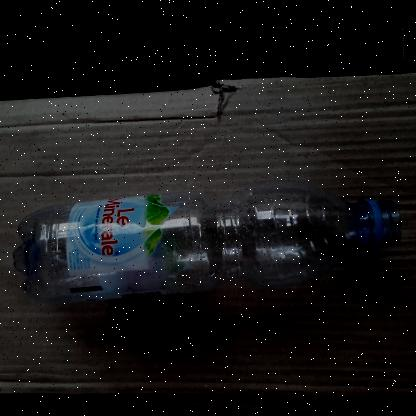Plastic Bottle: (13, 188, 402, 300)
